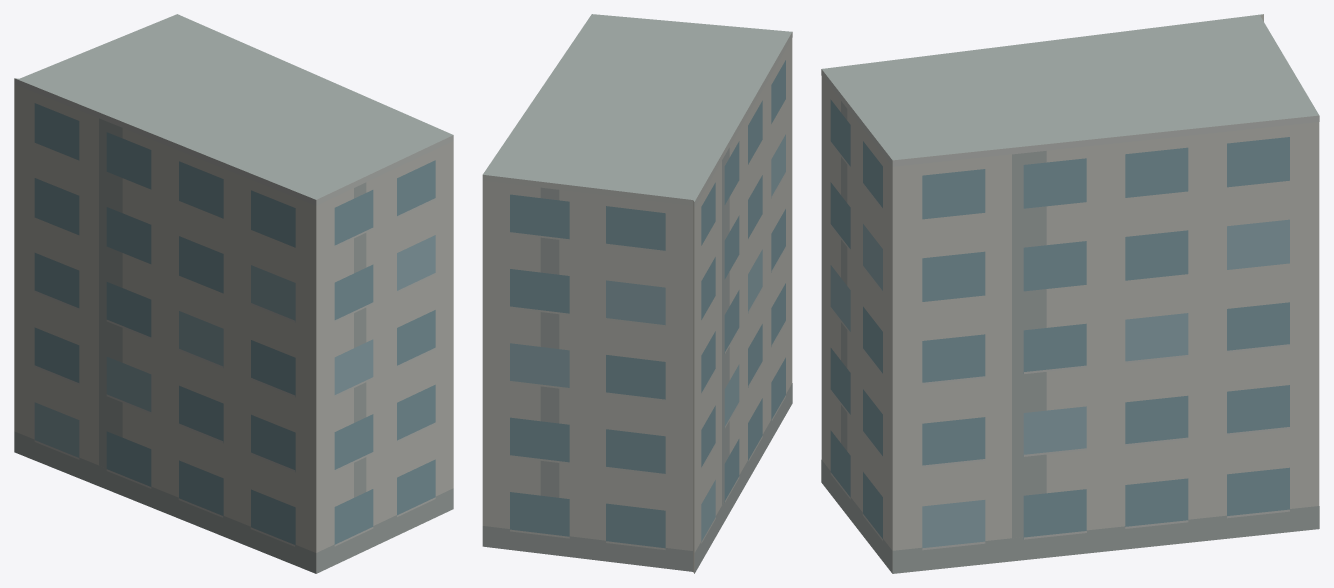
Rendered from survey-upis-32838337.glb.
3 views of the same model, side by side, from view 1: azimuth 30°, elevation 25°; view 2: azimuth 150°, elevation 25°; view 3: azimuth 270°, elevation 25° (orthographic). The views are drawn at different scales.
Parts seen in each view (by area): view 1: survey-upis-32838337.tmp; view 2: survey-upis-32838337.tmp; view 3: survey-upis-32838337.tmp.
Boxes of the visible parts, x1,y1,x2,y2 form: survey-upis-32838337.tmp: (14,14,453,573); survey-upis-32838337.tmp: (482,14,792,573); survey-upis-32838337.tmp: (821,14,1319,573).
Bounding box in the file's own units: 11.59 × 15.25 × 16.66.
